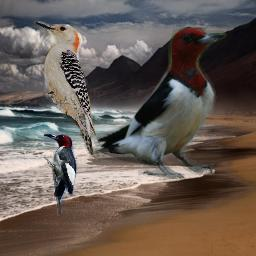Woodpecker: (88, 27, 229, 179), (33, 15, 102, 164), (44, 133, 77, 216)
